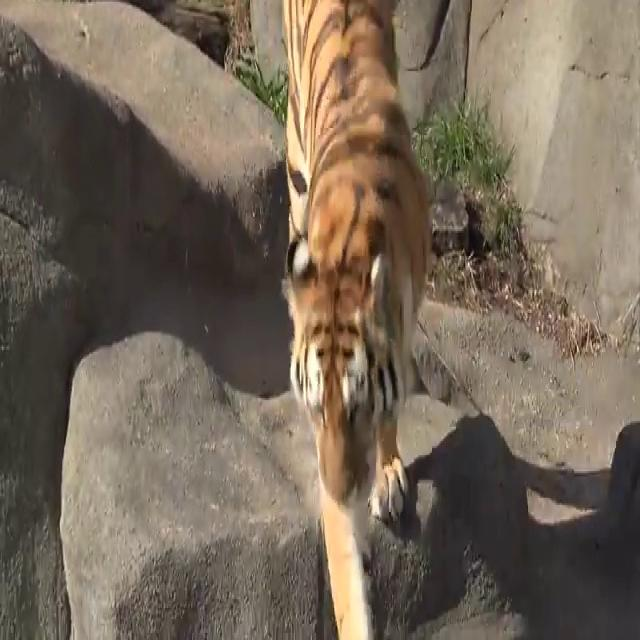tiger: (285, 0, 431, 637)
